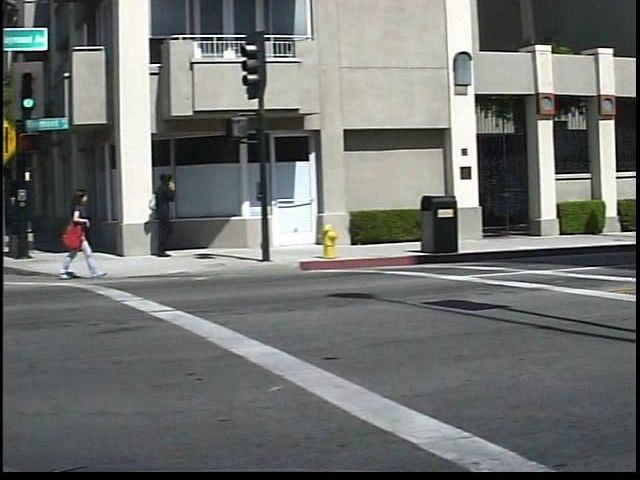person: (56, 184, 107, 287), (146, 172, 193, 262)
